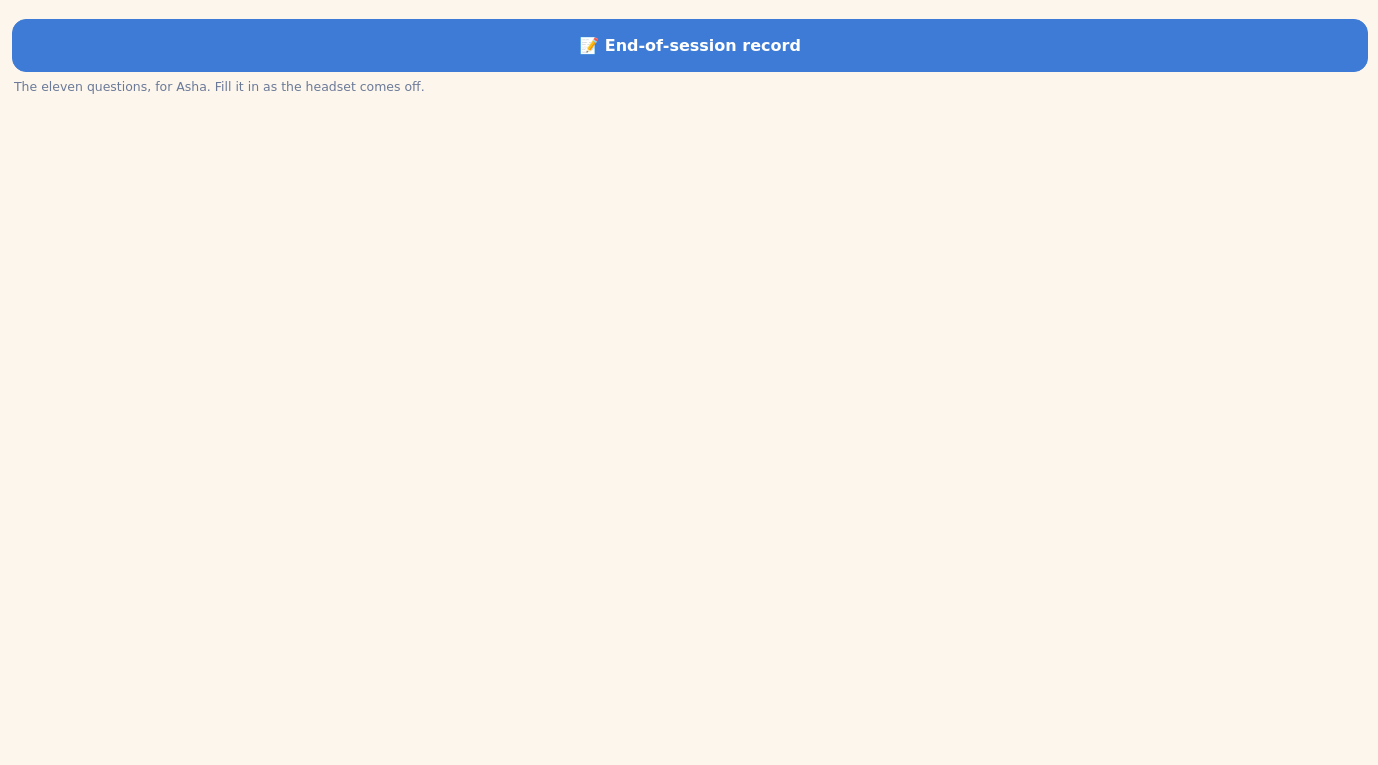
Test: SessionExperienceForm › asks all eleven questions
Click the button "📝 End-of-session record" at (690, 46), box [12, 19, 1368, 72]
(page scrolled)
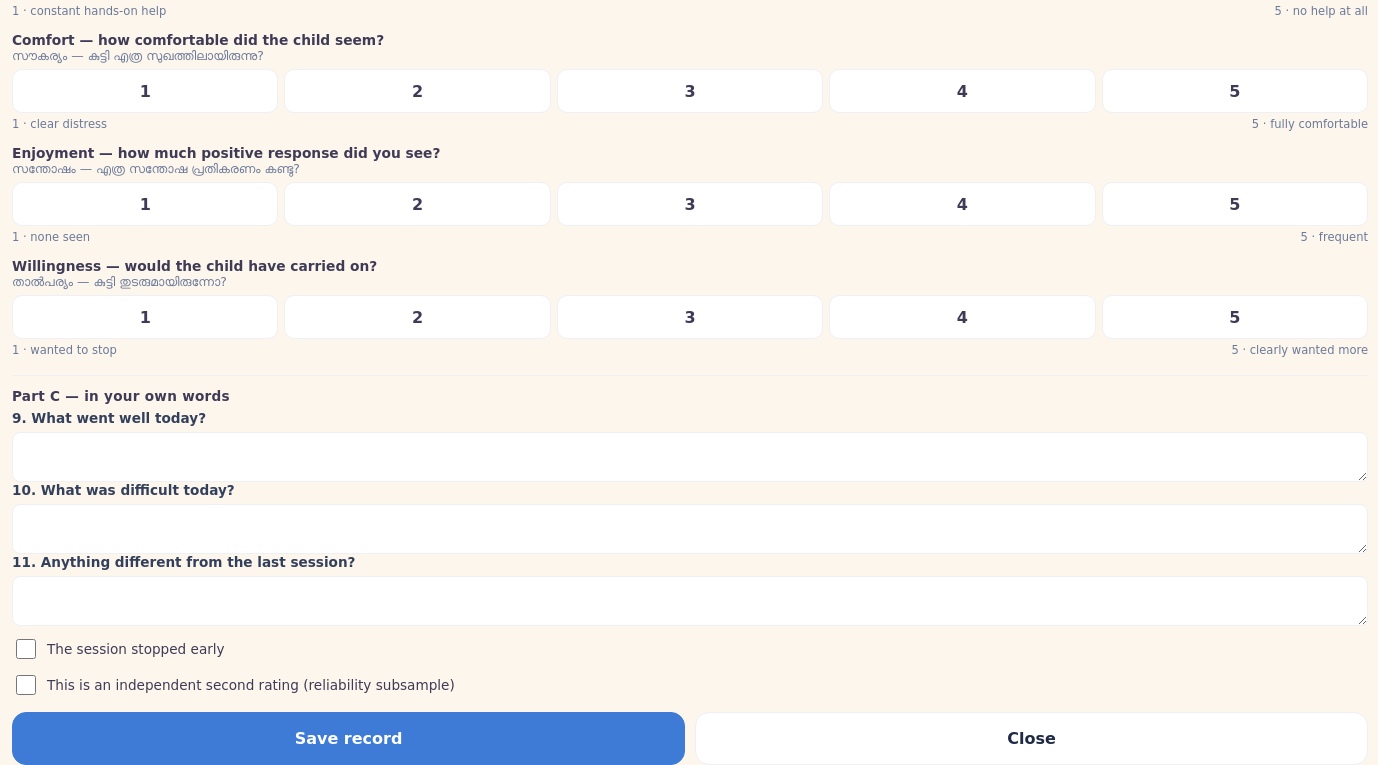
expect the text "Comfort —" is shown: met, box [12, 32, 384, 48]
expect the text "Enjoyment —" is shown: met, box [12, 145, 440, 161]
expect the text "Willingness —" is shown: met, box [12, 258, 377, 274]
